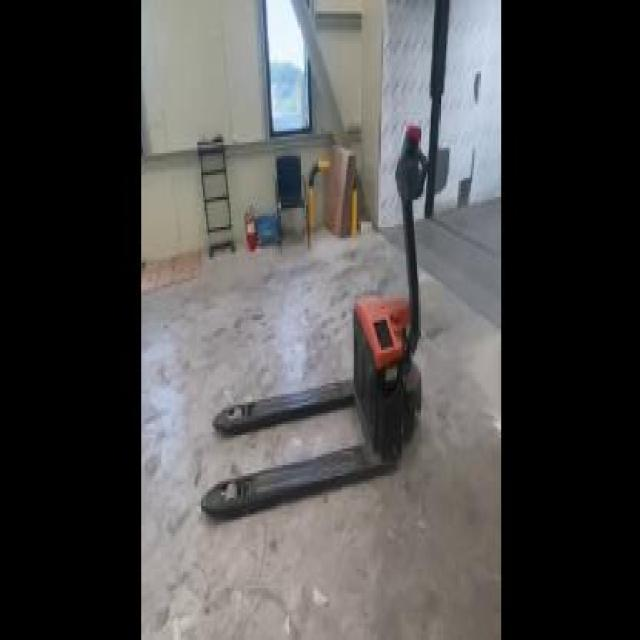robot: (196, 128, 430, 512)
